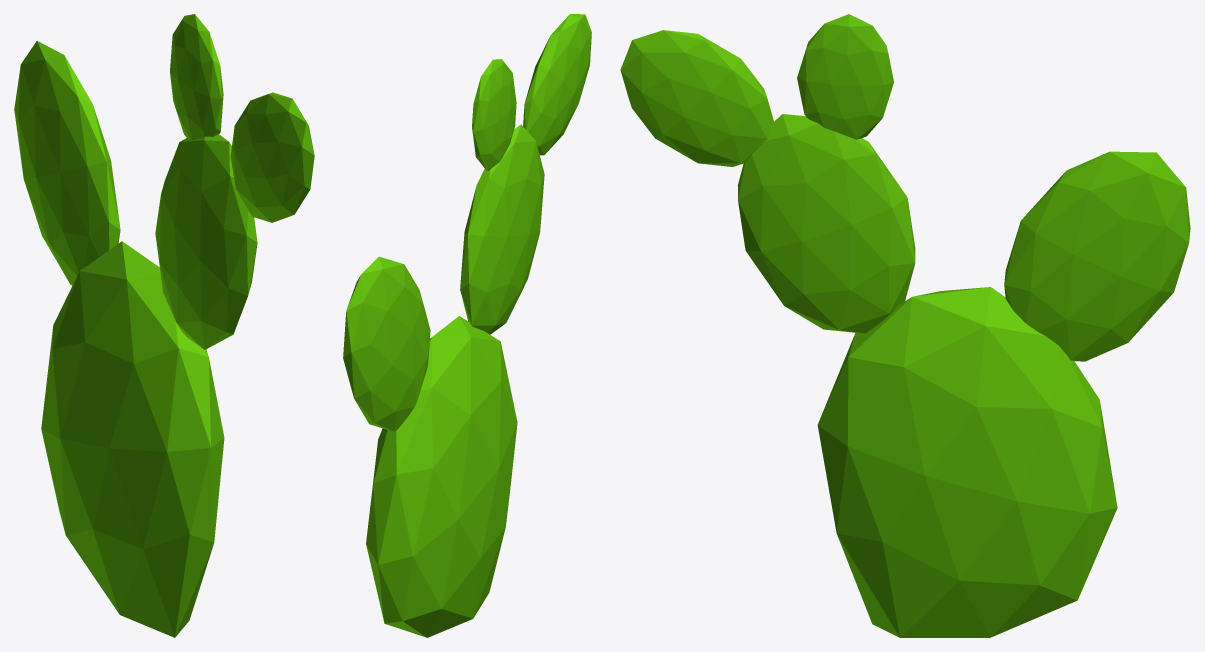
The model's file is ww_cactus_c.glb.
3 views of the same model, side by side, from view 1: azimuth 30°, elevation 25°; view 2: azimuth 150°, elevation 25°; view 3: azimuth 270°, elevation 25° (orthographic). The views are drawn at different scales.
Parts seen in each view (by area): view 1: Cactus_C; view 2: Cactus_C; view 3: Cactus_C.
Part boxes in pixels (x1=…): Cactus_C: x1=14, y1=14, x2=314, y2=637; Cactus_C: x1=343, y1=14, x2=591, y2=637; Cactus_C: x1=620, y1=14, x2=1190, y2=637.
Bounding box in the file's own units: 0.2446 × 1.58 × 1.33.
